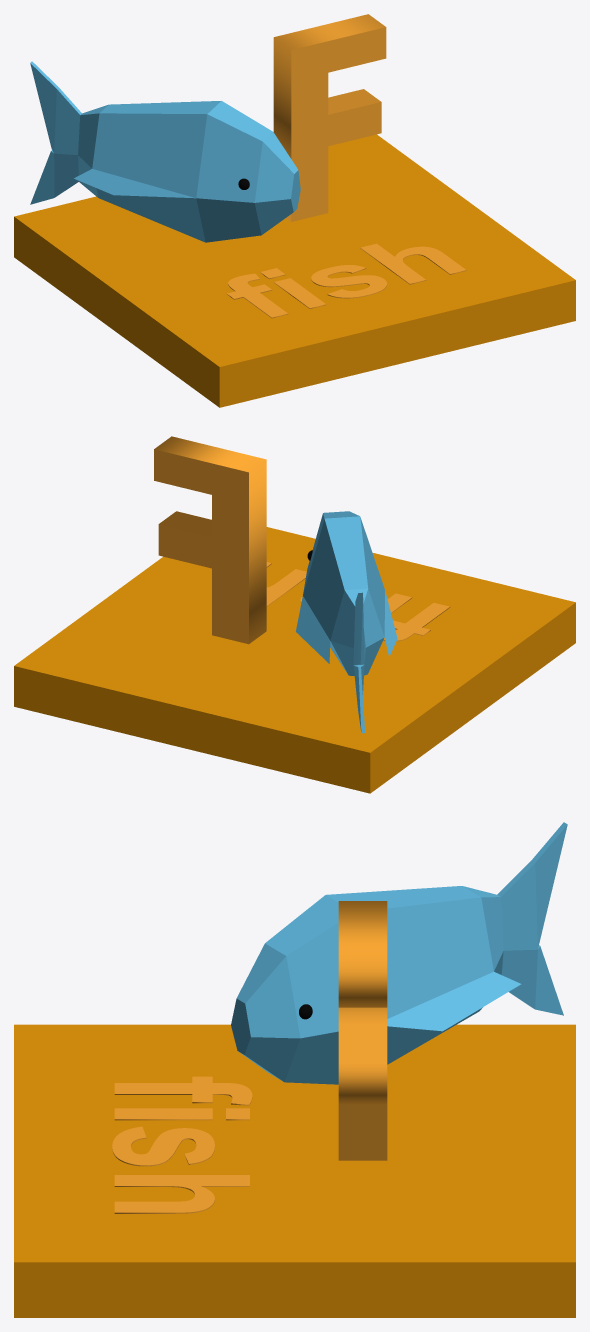
The model's file is fletter.glb.
The picture shows the model from 3 angles, top to bottom: view 1: azimuth 30°, elevation 25°; view 2: azimuth 150°, elevation 25°; view 3: azimuth 270°, elevation 25°; orthographic projection. The views are drawn at different scales.
Visible parts, largest first — view 1: Cube, Plane.002, Text.003, Text.002; view 2: Cube, Text.003, Plane.002, Text.002; view 3: Cube, Plane.002, Text.003, Text.002.
Boxes of the visible parts, x1=… form: Cube: x1=14, y1=134, x2=575, y2=407; Plane.002: x1=30, y1=61, x2=300, y2=242; Text.003: x1=273, y1=14, x2=386, y2=221; Text.002: x1=227, y1=243, x2=466, y2=318; Cube: x1=14, y1=527, x2=575, y2=793; Text.003: x1=154, y1=436, x2=266, y2=644; Plane.002: x1=296, y1=511, x2=397, y2=733; Text.002: x1=266, y1=562, x2=450, y2=641; Cube: x1=14, y1=1024, x2=575, y2=1317; Plane.002: x1=231, y1=822, x2=567, y2=1084; Text.003: x1=338, y1=901, x2=387, y2=1160; Text.002: x1=112, y1=1076, x2=252, y2=1213.
Size of the model in its own units: 0.327 by 0.1966 by 0.327.
